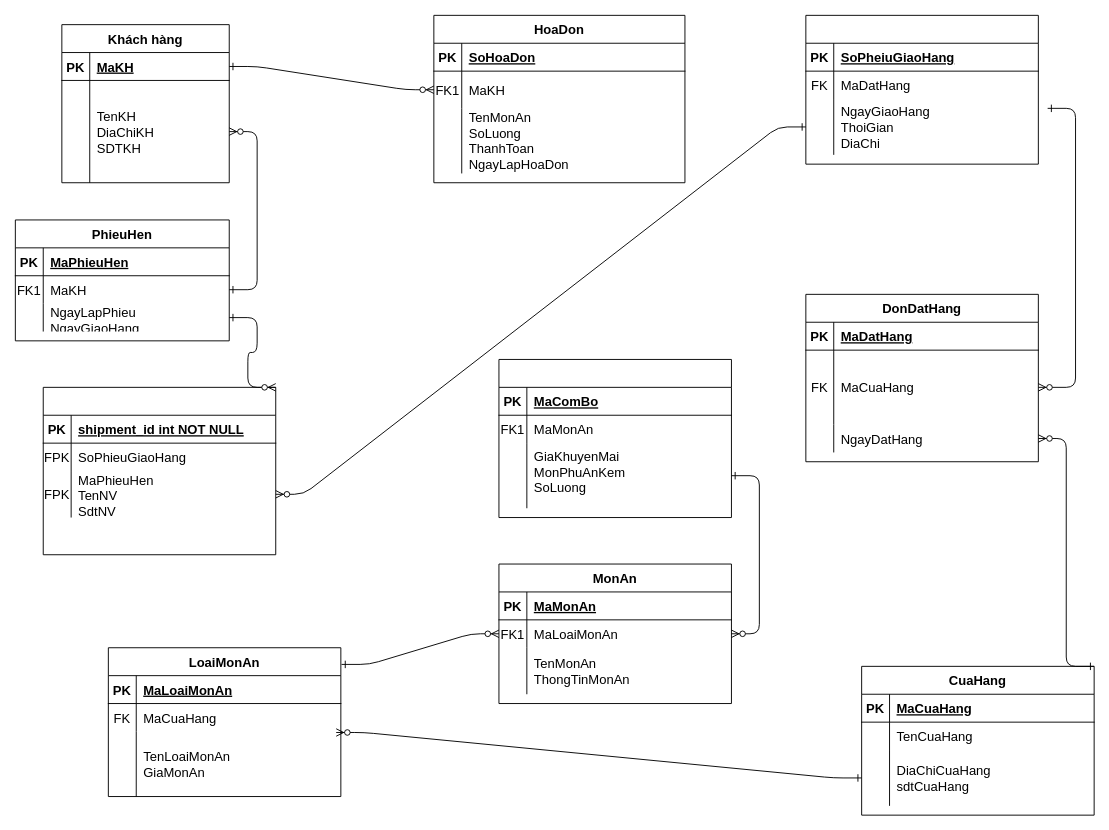
The diagram is 1109 pixels wide and 830 high, and some of its shapes have lost their labels. Each missing label, with the box of its shape:
ComBoGiamGia: (498, 359, 731, 518)
NVGiaoHang: (42, 386, 276, 555)
PhieuGiaoHang: (805, 14, 1038, 164)
